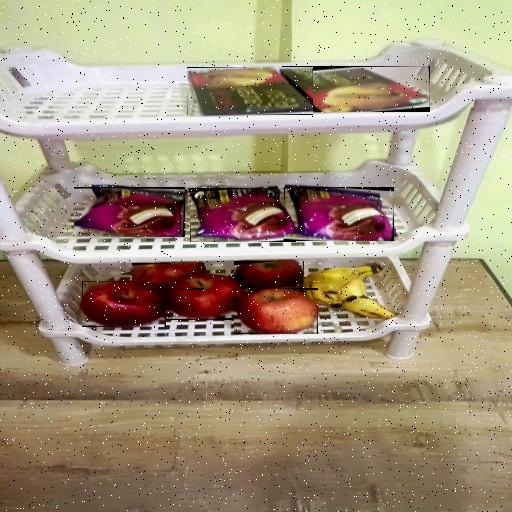Apple: (234, 288, 318, 334), (82, 281, 166, 327), (164, 275, 242, 320), (234, 261, 304, 292), (132, 263, 204, 290)
Choco Fills: (282, 66, 430, 112), (187, 67, 313, 115)
Choco Pie: (284, 187, 394, 241), (190, 188, 296, 242), (74, 187, 185, 237)
